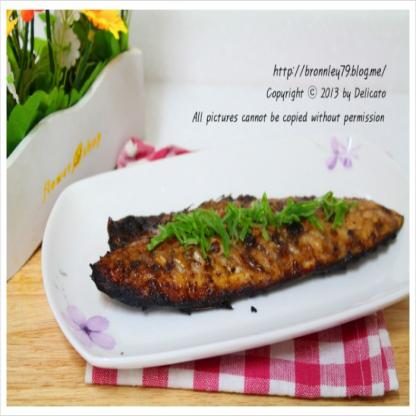Peixe: (86, 176, 404, 317)
